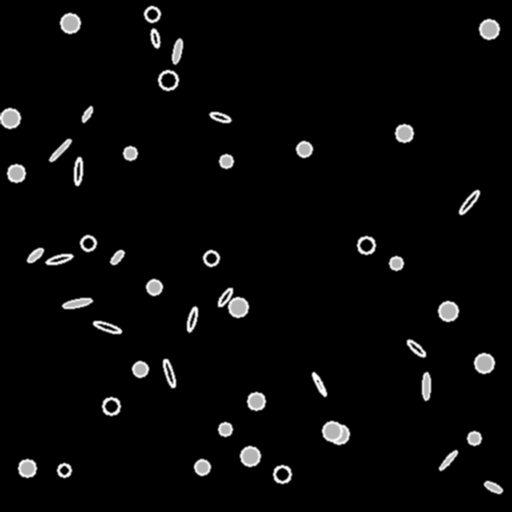pseudomonas: (48, 138, 72, 162), (458, 189, 480, 215), (92, 319, 122, 335), (438, 449, 458, 471), (405, 338, 427, 358), (45, 252, 73, 266), (162, 359, 176, 387), (311, 372, 327, 396), (185, 306, 199, 332), (216, 287, 234, 307), (63, 297, 91, 309), (26, 246, 44, 264), (171, 39, 183, 63), (109, 248, 125, 266), (484, 480, 502, 494), (80, 105, 94, 123), (149, 28, 161, 48), (210, 111, 230, 123), (422, 372, 430, 400), (74, 158, 82, 184)
synechocystis: (229, 298, 247, 316), (439, 302, 457, 320), (241, 447, 259, 465), (61, 14, 79, 32), (475, 354, 493, 372), (330, 425, 348, 443), (480, 20, 498, 38), (159, 71, 177, 89), (1, 109, 19, 127), (323, 422, 341, 440), (19, 460, 35, 476), (396, 125, 412, 141), (8, 165, 24, 181), (274, 466, 290, 482), (248, 393, 264, 409), (358, 237, 374, 253), (103, 398, 119, 414), (195, 460, 209, 474), (297, 142, 311, 156), (81, 236, 95, 250), (145, 7, 159, 21), (133, 362, 147, 376), (204, 251, 218, 265), (147, 280, 161, 294), (220, 155, 232, 167), (58, 464, 70, 476), (124, 147, 136, 159), (468, 432, 480, 444), (219, 423, 231, 435), (390, 257, 402, 269)
